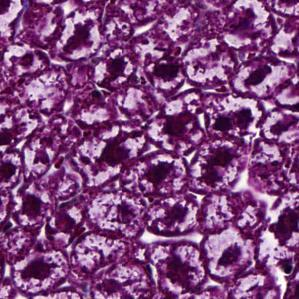inflammation: (10, 248, 69, 296), (135, 151, 186, 198), (143, 49, 188, 94), (91, 50, 138, 91), (92, 131, 136, 173)
